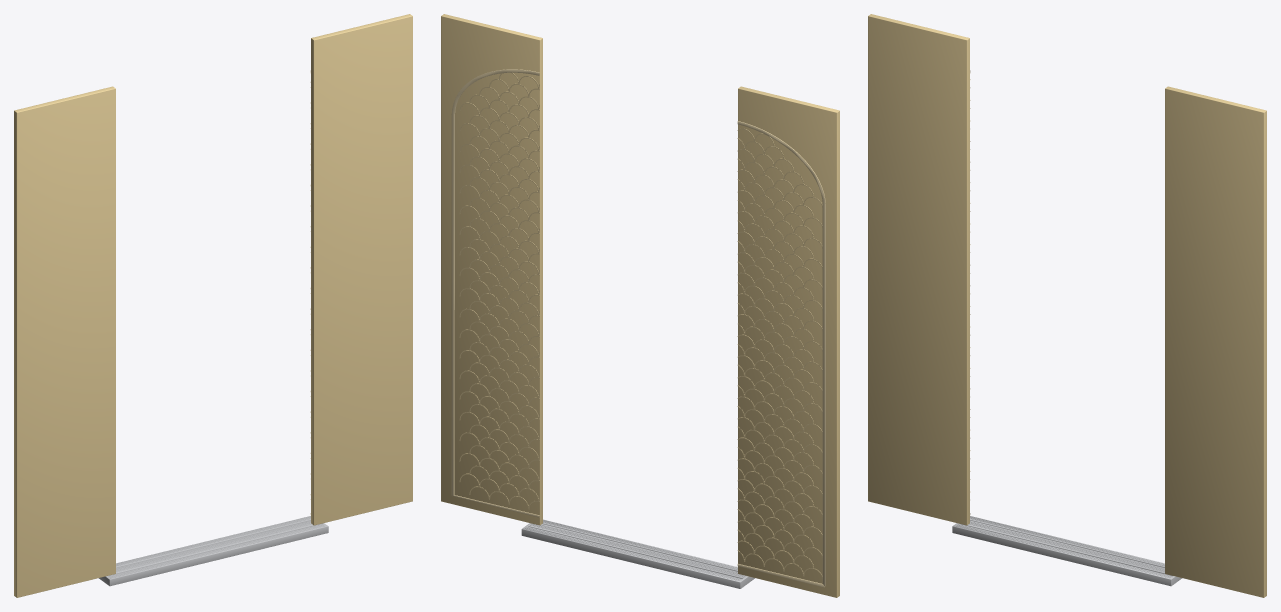
File: cabin_door_TM022.glb
3 renders of one model, left to right at view 1: azimuth 30°, elevation 25°; view 2: azimuth 150°, elevation 25°; view 3: azimuth 330°, elevation 25°, orthographic.
Visible parts, largest first — view 1: Car_Door_R, Car_Door_L, Door_Sill; view 2: Car_Door_L, Car_Door_R, Door_Sill; view 3: Car_Door_L, Car_Door_R, Door_Sill.
Part boxes in pixels (x1,y1,x2,y2): Car_Door_R: [310, 14, 412, 525]; Car_Door_L: [14, 86, 115, 597]; Door_Sill: [98, 516, 328, 586]; Car_Door_L: [737, 86, 839, 597]; Car_Door_R: [441, 14, 542, 525]; Door_Sill: [521, 519, 754, 588]; Car_Door_L: [868, 14, 970, 525]; Car_Door_R: [1165, 86, 1266, 597]; Door_Sill: [952, 516, 1182, 586].
Bounding box in the file's own units: 1.81 × 2.15 × 0.12.
